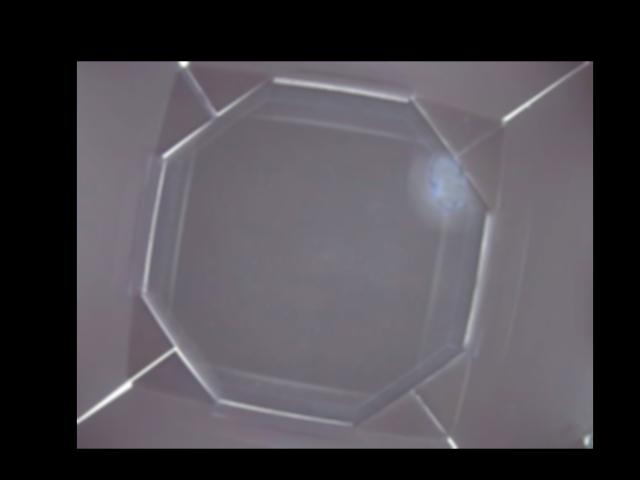Pebble: (426, 150, 464, 209)
